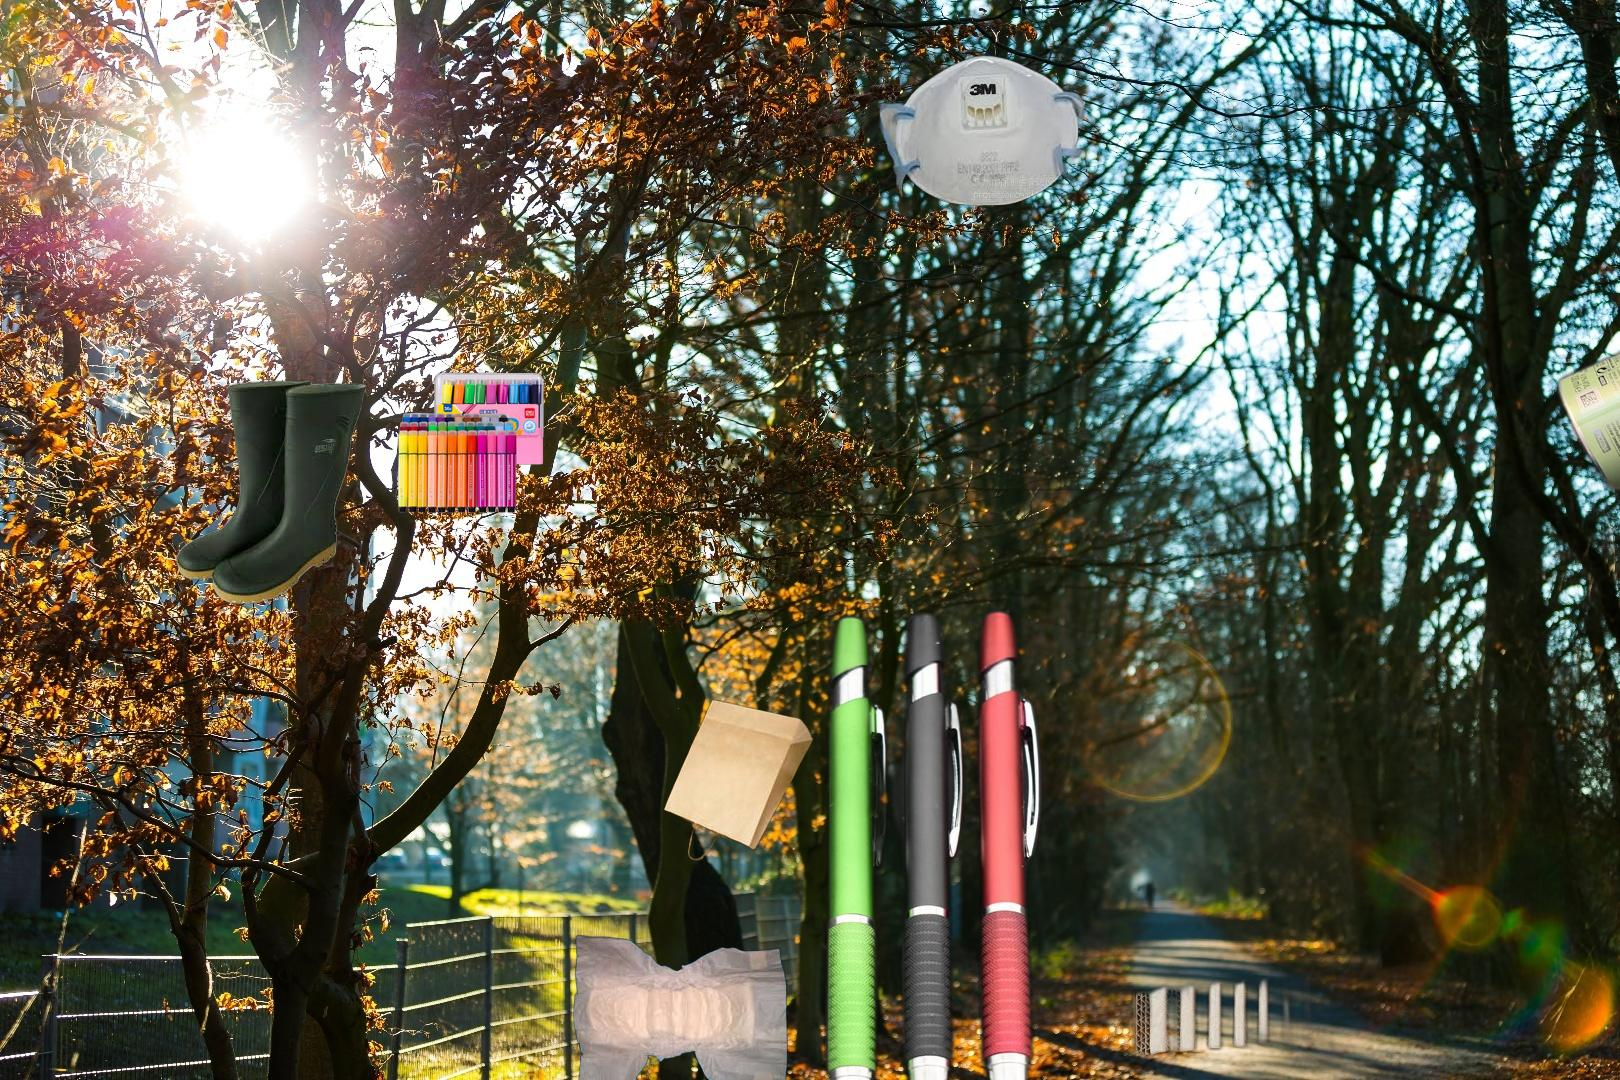metal-cans: (1552, 93, 1620, 776)
paper-bag: (661, 697, 817, 864)
penholder: (817, 603, 1050, 1080), (397, 370, 546, 516)
shoes: (174, 378, 370, 606)
trash: (876, 52, 1096, 209), (571, 932, 790, 1080)
trashbox-cardboard: (953, 931, 1402, 1080)
